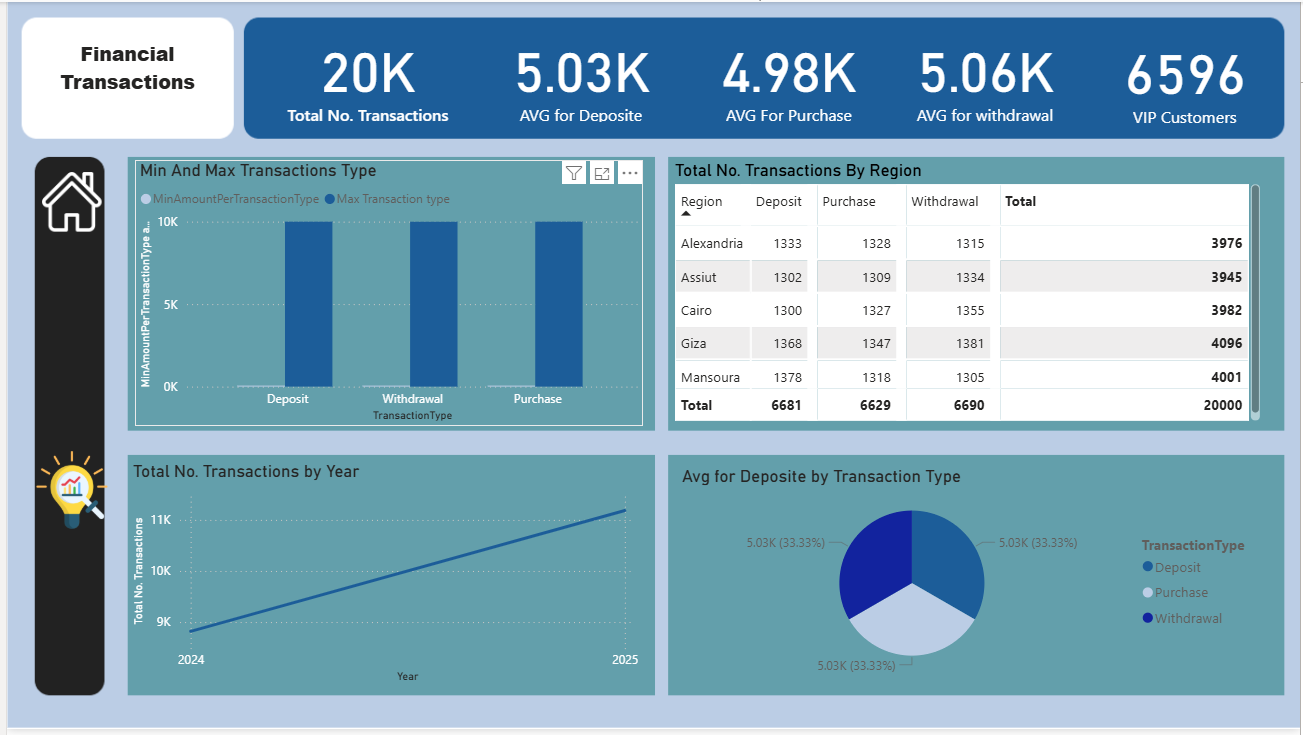

The dashboard page shown, as its layout file describes it:
{"tool":"powerbi","page":{"name":"Home","canvas":[1280,720],"ordinal":0},"visuals":[{"type":"card","fields":{"Values":["My Measures.Measure 2"]},"box":[269.3,23.8,176.2,100],"z":0},{"type":"card","fields":{"Values":["My Measures.ِavg 2"]},"box":[880.1,23.8,176.2,100],"z":1000},{"type":"card","fields":{"Values":["My Measures.AVG for Deposite"]},"box":[480.1,23.8,176.2,100],"z":2000},{"type":"pieChart","title":"Avg for Deposite by Transaction Type","fields":{"Category":["DIM Transaction type.TransactionType"],"Y":["My Measures.AVG for Deposite"]},"box":[663.3,459.3,582.1,212.8],"z":4000},{"type":"card","fields":{"Values":["My Measures.AVG For Purchase"]},"box":[686,23.8,176.2,100],"z":5000},{"type":"clusteredColumnChart","title":"Min And Max Transactions Type","fields":{"Category":["DIM Transaction type.TransactionType"],"Y":["My Measures.MinAmountPerTransactionType","My Measures.Max Transaction type"]},"box":[126.7,156.4,502.9,263.3],"z":6000},{"type":"card","fields":{"Values":["My Measures.VIP Customers"]},"box":[1078.3,25.7,176,100],"z":7000},{"type":"lineChart","fields":{"Category":["date table.Date.Variation.Date Hierarchy.Year","date table.Date.Variation.Date Hierarchy.Quarter","date table.Date.Variation.Date Hierarchy.Month","date table.Date.Variation.Date Hierarchy.Day"],"Y":["My Measures.Total No. Transactions"]},"box":[119.8,454.4,509.8,223.7],"z":7001},{"type":"pivotTable","title":"Total No. Transactions By  Region","fields":{"Rows":["DIM Region.Region"],"Columns":["DIM Transaction type.TransactionType"],"Values":["My Measures.Total No. Transactions"]},"box":[656.3,156.4,589,263.3],"z":7002},{"type":"textbox","box":[16.8,32.7,204.9,78.2],"z":7003},{"type":"image","box":[29.7,163.3,69.3,69.3],"z":7004},{"type":"image","box":[20.8,439.5,87.1,87.1],"z":7005}]}

Visuals, with their boxes in screenshot pixels (x1, y1, x2, y2), scaled from the page's 1280x720 canvas onto the 1303x735 screenshot:
card - My Measures.Measure 2: {"left": 274, "top": 24, "right": 454, "bottom": 126}
card - My Measures.ِavg 2: {"left": 896, "top": 24, "right": 1075, "bottom": 126}
card - My Measures.AVG for Deposite: {"left": 489, "top": 24, "right": 668, "bottom": 126}
"Avg for Deposite by Transaction Type" pieChart: {"left": 675, "top": 469, "right": 1268, "bottom": 686}
card - My Measures.AVG For Purchase: {"left": 698, "top": 24, "right": 878, "bottom": 126}
"Min And Max Transactions Type" clusteredColumnChart: {"left": 129, "top": 160, "right": 641, "bottom": 428}
card - My Measures.VIP Customers: {"left": 1098, "top": 26, "right": 1277, "bottom": 128}
lineChart - date table.Date.Variation.Date Hierarchy.Year x date table.Date.Variation.Date Hierarchy.Quarter: {"left": 122, "top": 464, "right": 641, "bottom": 692}
"Total No. Transactions By  Region" pivotTable: {"left": 668, "top": 160, "right": 1268, "bottom": 428}
textbox: {"left": 17, "top": 33, "right": 226, "bottom": 113}
image: {"left": 30, "top": 167, "right": 101, "bottom": 237}
image: {"left": 21, "top": 449, "right": 110, "bottom": 538}
